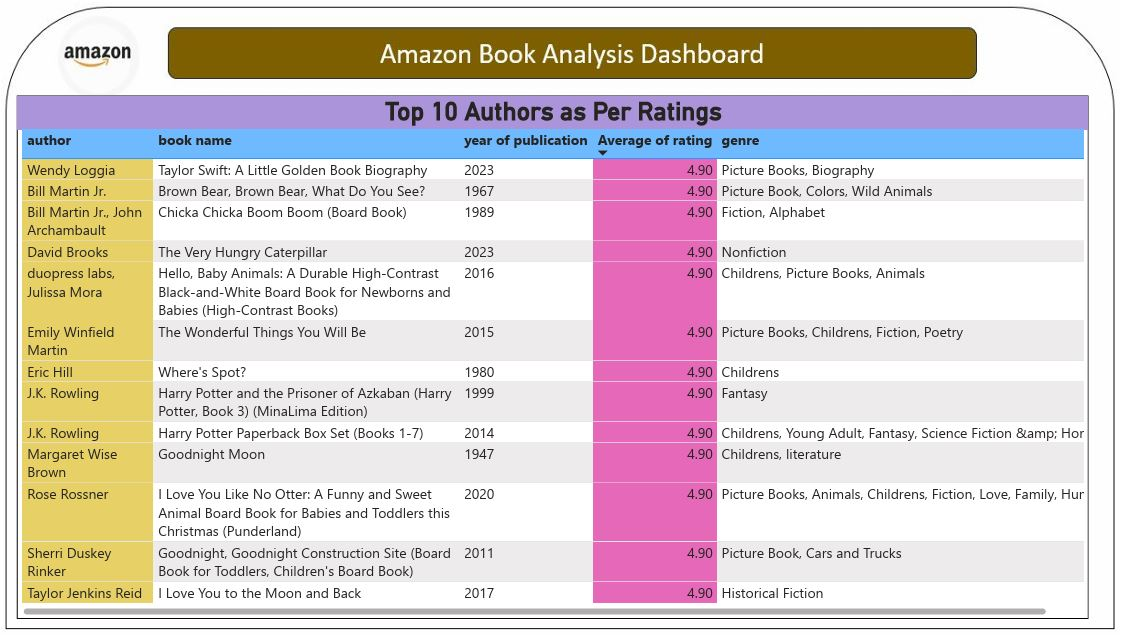

Layout of this report page (visuals, bound fields, positions):
{"tool":"powerbi","page":{"name":"Best Authors","canvas":[1280,720],"ordinal":2},"visuals":[{"type":"tableEx","title":"Top 10 Authors as Per Ratings","fields":{"Values":["Merge1.author","Merge1.book name","Merge1.year of publication","Merge1.rating","Merge1.genre"]},"box":[17,105.8,1228.4,599.1],"z":0}]}

Visuals, with their boxes in screenshot pixels (x1, y1, x2, y2), scaled from the page's 1280x720 canvas onto the 1124x637 screenshot:
"Top 10 Authors as Per Ratings" tableEx: bbox=(15, 94, 1094, 624)
